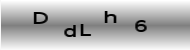6: (134, 19, 147, 32)
D: (32, 11, 49, 25)
L: (79, 23, 92, 37)
d: (63, 23, 76, 37)
h: (103, 10, 117, 24)
